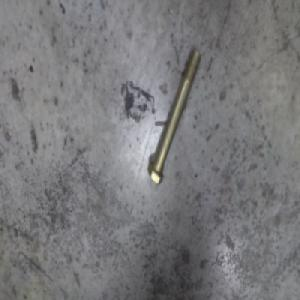Bolt: (155, 49, 209, 183)
